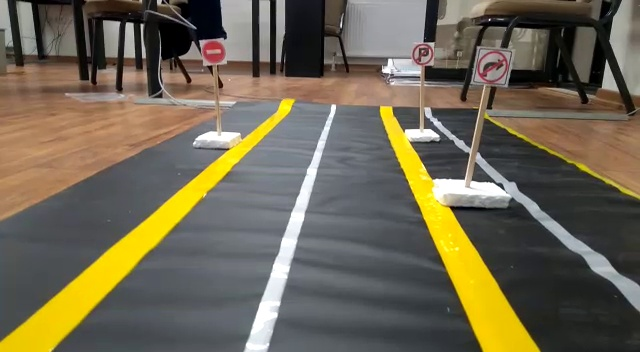girisi_olmayan_yol: (199, 38, 228, 65)
park_yapilmaz: (410, 40, 435, 65)
saga_donulmez: (472, 47, 508, 85)
